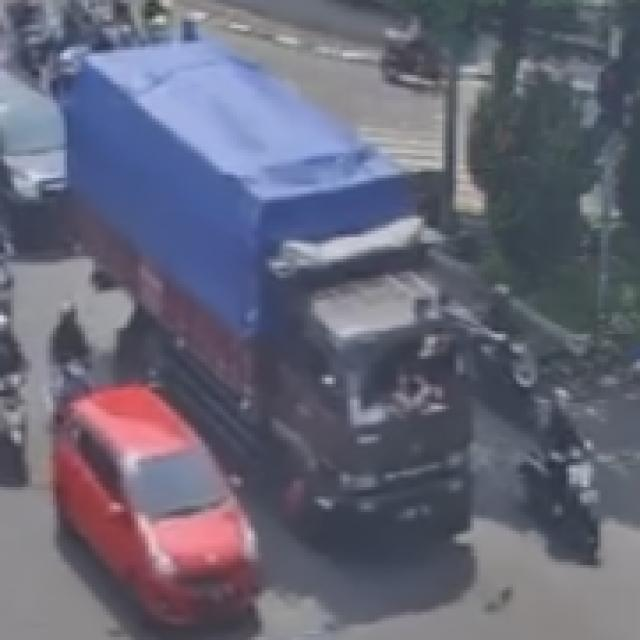car: (26, 368, 262, 623)
truck: (72, 22, 504, 566)
